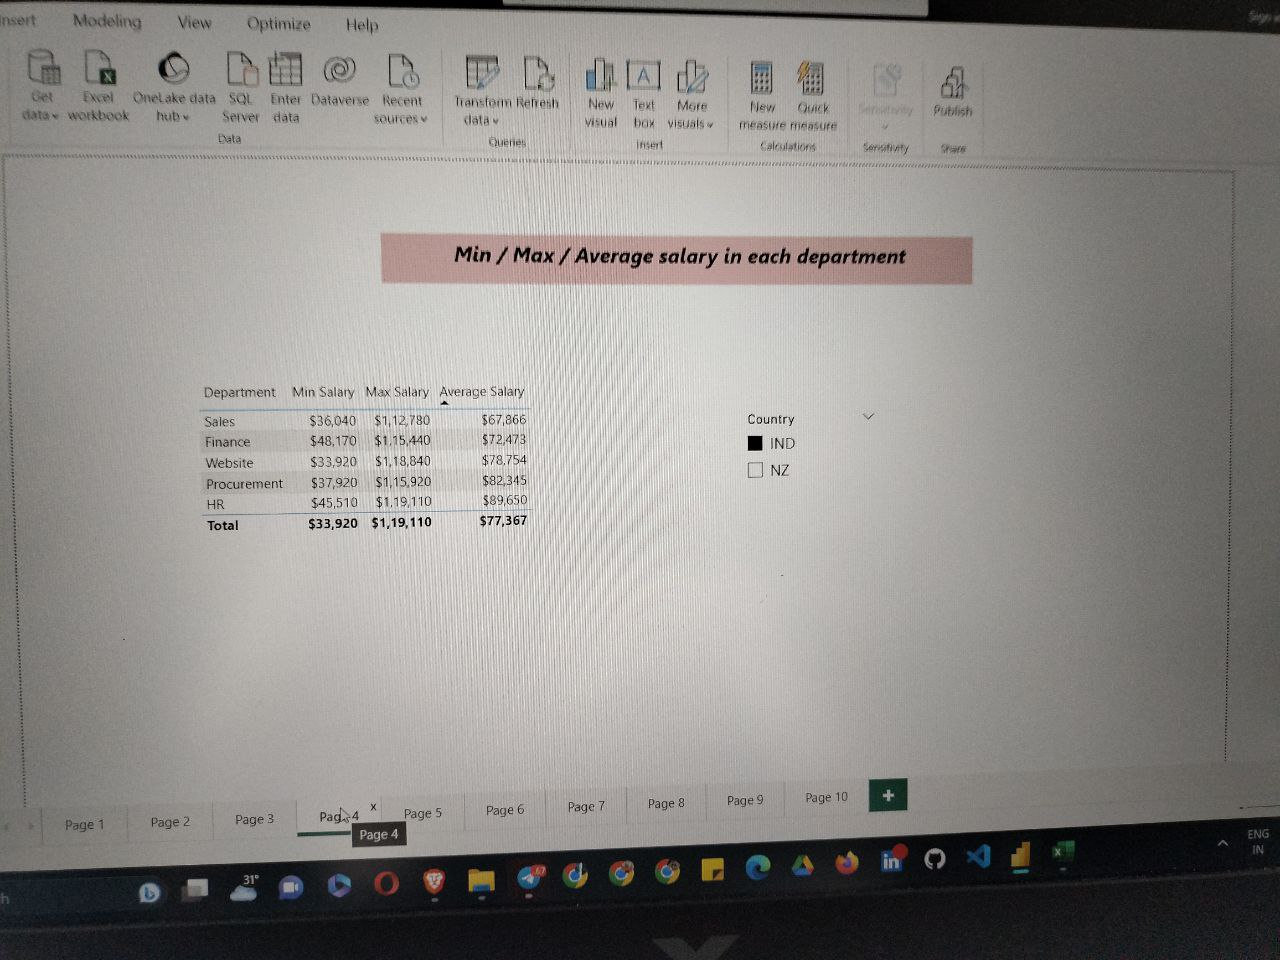

The dashboard page shown, as its layout file describes it:
{"tool":"powerbi","page":{"name":"Page 4","canvas":[1280,720],"ordinal":3},"visuals":[{"type":"textbox","box":[365.6,73.3,618.9,50],"z":0},{"type":"tableEx","fields":{"Values":["Data.Department","Data.Min Salary","Data.Max Salary","Data.Average"]},"box":[176.7,217.8,392.2,200],"z":1000},{"type":"slicer","fields":{"Values":["Data.Country"]},"box":[728.9,251.1,162.2,133.3],"z":2000}]}

Visuals, with their boxes on the page's 1280x720 design canvas (x1, y1, x2, y2). These are canvas units, not pixel positions in the 1280x960 screenshot, which may show the page scaled, cropped or inside an application window:
textbox: bbox(366, 73, 984, 123)
tableEx - Data.Department x Data.Min Salary: bbox(177, 218, 569, 418)
slicer - Data.Country: bbox(729, 251, 891, 384)
